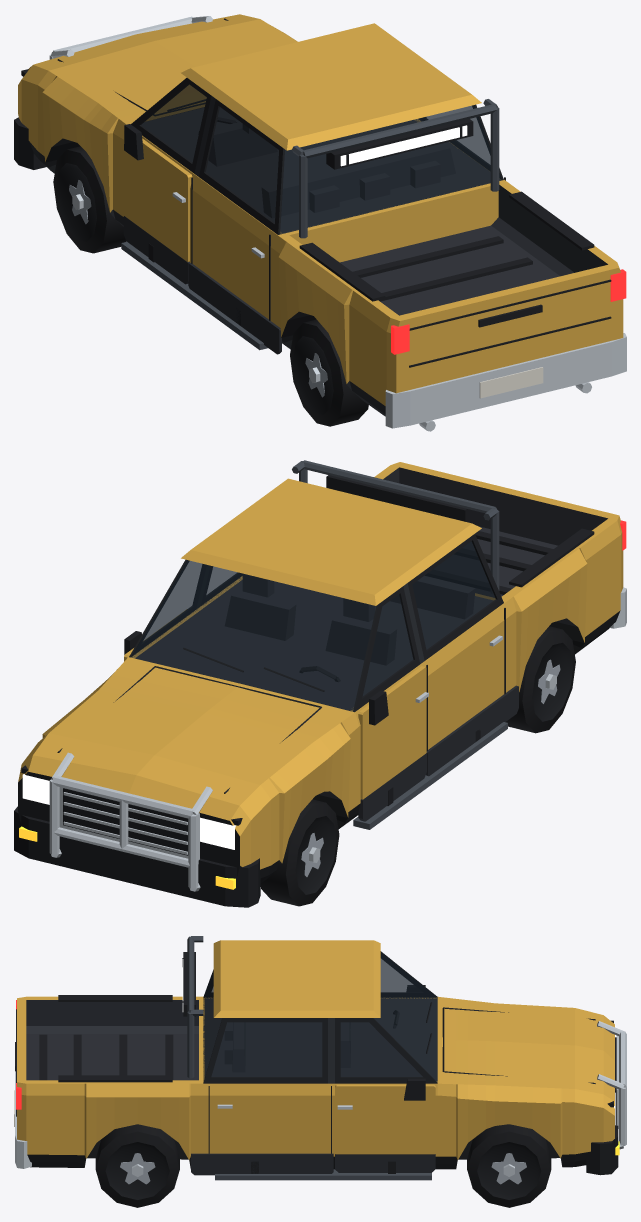
File: pickup.glb
3 views of the same model, one above another, from view 1: azimuth 30°, elevation 25°; view 2: azimuth 150°, elevation 25°; view 3: azimuth 270°, elevation 25° (orthographic). The views are drawn at different scales.
Parts seen in each view (by area): view 1: Body, Bed, DoorL, Wheel_RL, Wheel_FL; view 2: Body, Bed, DoorL, Wheel_FL, Wheel_RL, DoorR; view 3: Body, Bed, DoorR, Wheel_FR, Wheel_RR, DoorL.
Part boxes in pixels (box(x1,y1,x2,y2)): Body: box(14, 14, 626, 431); Bed: box(274, 180, 616, 416); DoorL: box(123, 78, 211, 284); Wheel_RL: box(290, 319, 368, 426); Wheel_FL: box(53, 146, 126, 253); Body: box(14, 460, 626, 907); Bed: box(374, 465, 621, 692); DoorL: box(353, 586, 428, 821); Wheel_FL: box(260, 799, 339, 906); Wheel_RL: box(505, 626, 575, 733); DoorR: box(124, 559, 206, 661); Body: box(14, 936, 626, 1180); Bed: box(26, 995, 203, 1168); DoorR: box(335, 1018, 437, 1172); Wheel_FR: box(467, 1124, 551, 1207); Wheel_RR: box(95, 1124, 179, 1207); DoorL: box(380, 951, 437, 997).
Size of the model in its own units: 1.99 by 1.83 by 5.36.
